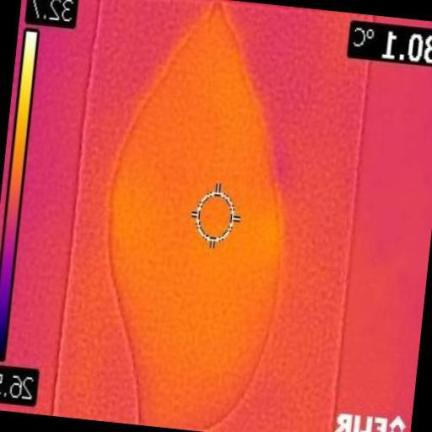mango: (112, 6, 283, 427)
